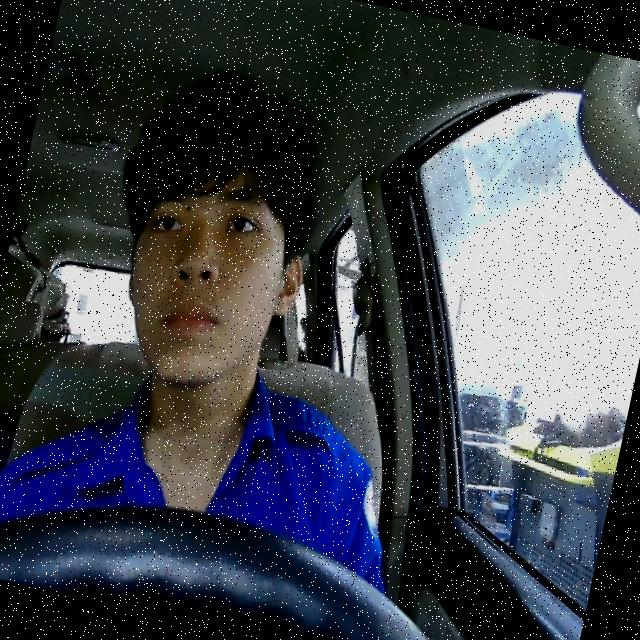seeing_left: (105, 133, 328, 405)
